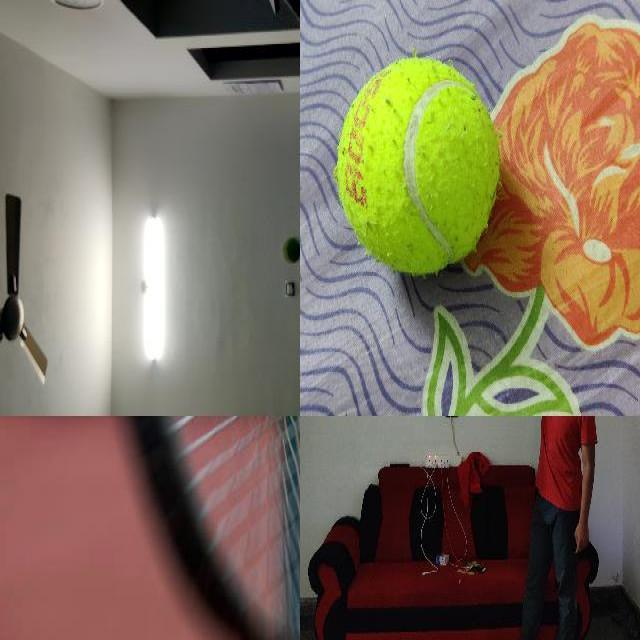tennis-ball: (336, 56, 499, 276), (281, 236, 299, 266)
